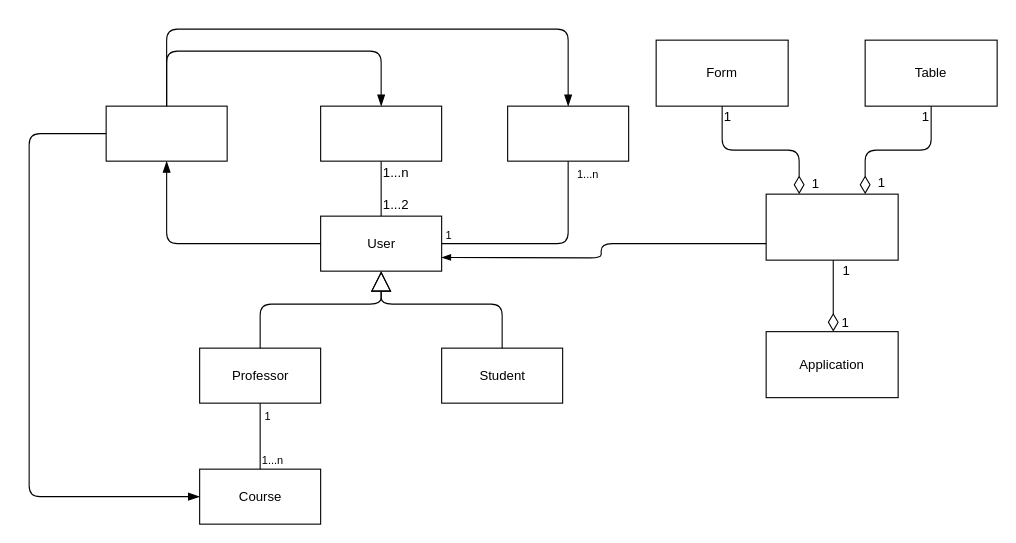
Image size: 1016x543. Some labels were removed from this diagram. Each missing label, with the centre of its shape:
"DBManager" goes at [166,133].
"Exam" goes at [381,133].
"GUI" goes at [831,226].
"Registration" goes at [568,133].
